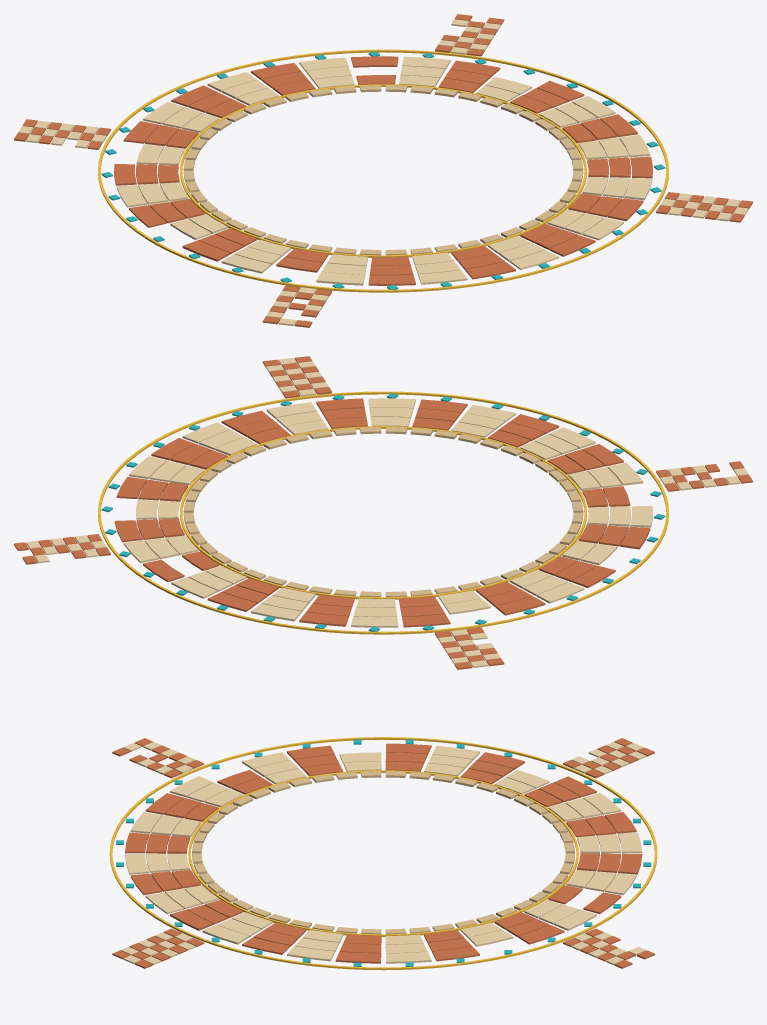
The model's file is SandMosaic.obj.
3 views of the same model, one above another, from view 1: azimuth 30°, elevation 25°; view 2: azimuth 150°, elevation 25°; view 3: azimuth 270°, elevation 25° (orthographic). The views are drawn at different scales.
Visible parts, largest first — view 1: TileDark, Tile, Inlay, Curb, Accent; view 2: TileDark, Tile, Inlay, Curb, Accent; view 3: TileDark, Tile, Inlay, Curb, Accent.
Part boxes in pixels (left/top/right/bottom): TileDark: left=14, top=14, right=752, bottom=327; Tile: left=18, top=19, right=748, bottom=325; Inlay: left=98, top=49, right=668, bottom=292; Curb: left=183, top=85, right=583, bottom=255; Accent: left=101, top=51, right=665, bottom=289; TileDark: left=14, top=356, right=752, bottom=669; Tile: left=26, top=358, right=748, bottom=667; Inlay: left=98, top=391, right=668, bottom=634; Curb: left=183, top=427, right=583, bottom=596; Accent: left=101, top=393, right=665, bottom=631; TileDark: left=112, top=738, right=654, bottom=968; Tile: left=120, top=742, right=646, bottom=965; Inlay: left=109, top=737, right=657, bottom=970; Curb: left=192, top=771, right=574, bottom=934; Accent: left=116, top=739, right=651, bottom=966.
Bounding box in the file's own units: 140 × 0.45 × 140.
